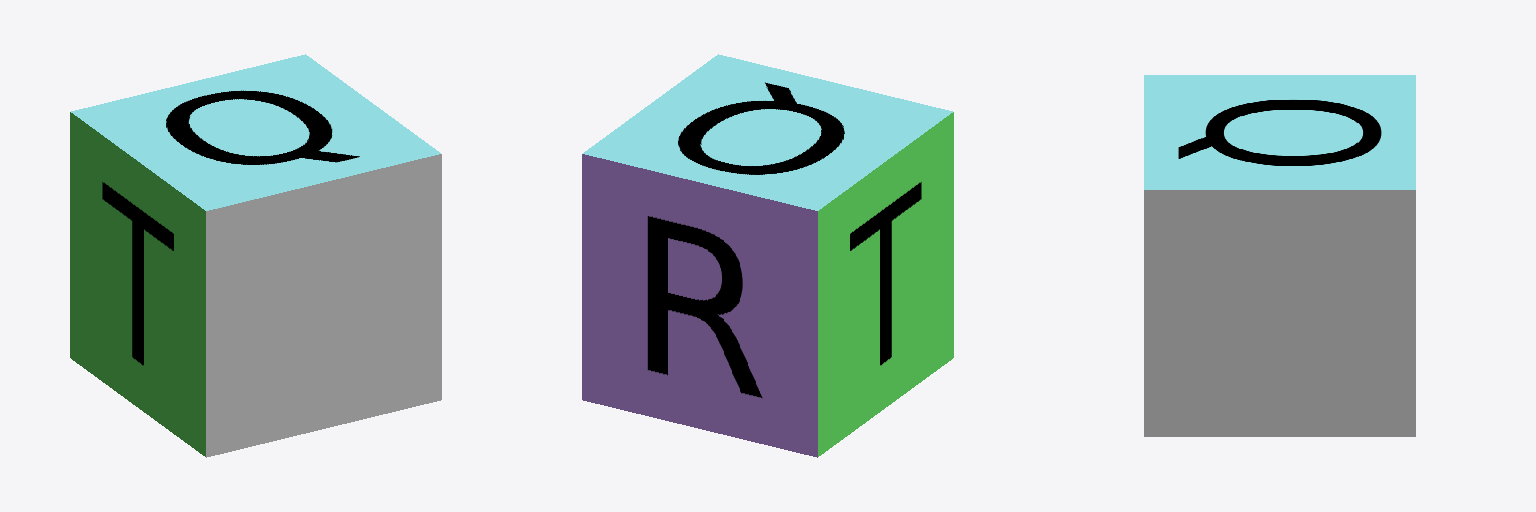
3 views of the same model, side by side, from view 1: azimuth 30°, elevation 25°; view 2: azimuth 150°, elevation 25°; view 3: azimuth 270°, elevation 25° (orthographic).
Parts seen in each view (by area): view 1: Cube; view 2: Cube; view 3: Cube.
Boxes of the visible parts, x1,y1,x2,y2 form: Cube: [70, 54, 441, 457]; Cube: [582, 54, 953, 457]; Cube: [1144, 75, 1415, 436].
Size of the model in its own units: 0.07 by 0.07 by 0.07.
Materials: 6 (3 with a texture image).